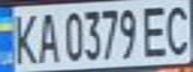0: (60, 7, 81, 62)
3: (81, 6, 103, 61)
7: (100, 4, 121, 60)
9: (118, 3, 142, 60)
A: (33, 8, 60, 64)
C: (160, 0, 193, 56)
E: (139, 1, 172, 58)
K: (6, 9, 42, 65)
